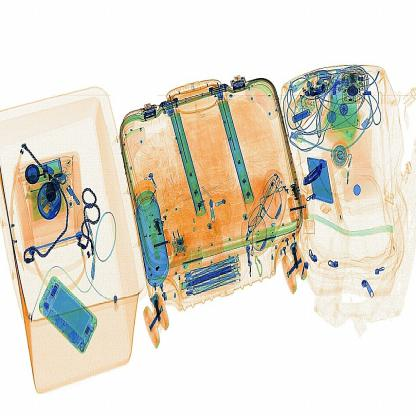knife: (301, 161, 327, 188)
